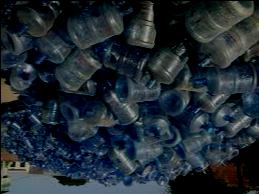Plastic: (193, 7, 258, 73), (62, 1, 133, 49), (180, 1, 257, 45), (138, 34, 190, 91), (190, 56, 258, 94), (94, 38, 150, 80), (97, 72, 139, 126), (5, 1, 62, 39), (52, 44, 99, 89), (117, 1, 161, 47), (169, 99, 215, 133), (107, 142, 135, 175)
